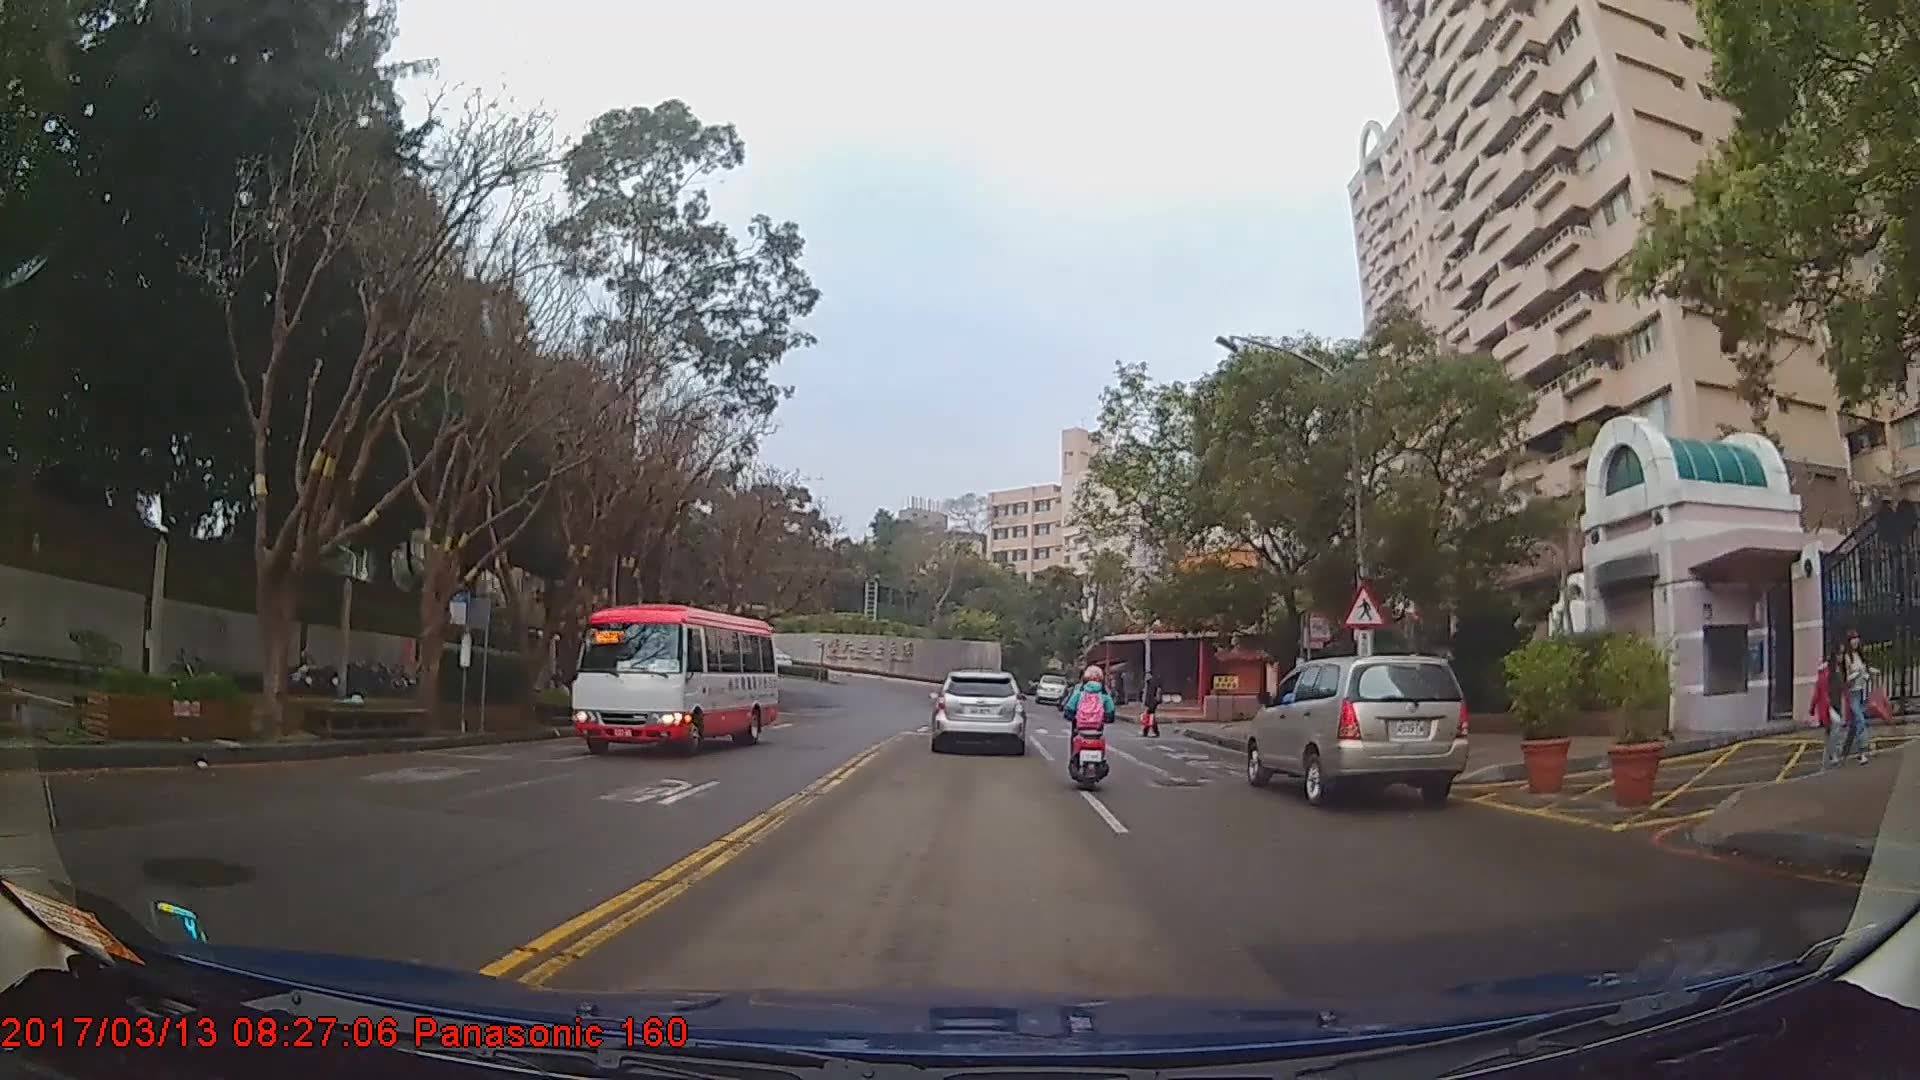pedestrian: (1804, 630, 1858, 787), (1836, 616, 1874, 776), (1139, 669, 1166, 743)
rider: (1064, 664, 1119, 794)
vehicle: (1245, 653, 1469, 806), (566, 602, 778, 755), (928, 667, 1026, 755), (1033, 673, 1067, 702)
